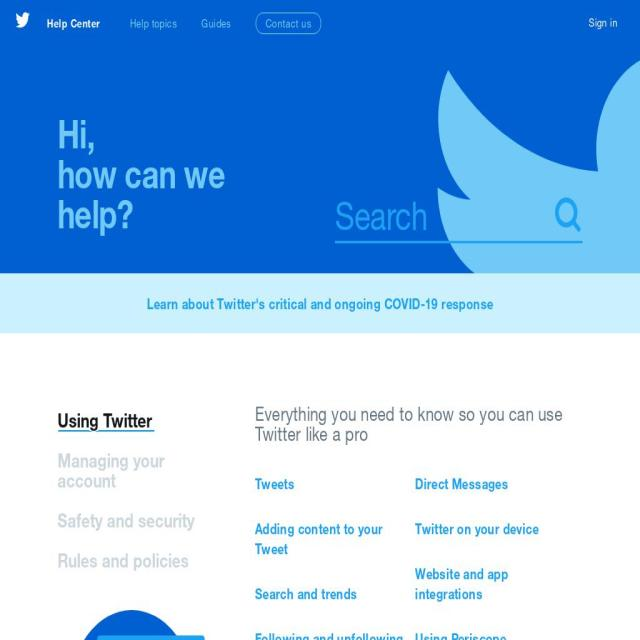button: (254, 508, 416, 574), (415, 554, 576, 618), (57, 440, 205, 500), (415, 508, 576, 554), (254, 464, 416, 508), (254, 574, 416, 618), (415, 464, 576, 508), (58, 500, 198, 540), (57, 540, 192, 580), (254, 618, 416, 640), (415, 618, 576, 640), (57, 410, 155, 440), (15, 10, 100, 37), (553, 189, 583, 241), (256, 13, 322, 34), (588, 12, 618, 32)
field: (335, 189, 553, 241)
heading: (56, 148, 225, 238), (57, 108, 95, 158)
image: (409, 0, 640, 495), (57, 610, 205, 640), (553, 194, 583, 234), (335, 241, 583, 243), (15, 10, 30, 30)
link: (146, 294, 494, 313)
text: (254, 404, 576, 444), (58, 448, 164, 492), (58, 508, 198, 532), (57, 548, 192, 572), (57, 408, 155, 432), (130, 14, 178, 34), (47, 16, 101, 31), (201, 14, 231, 34), (566, 12, 582, 32)
